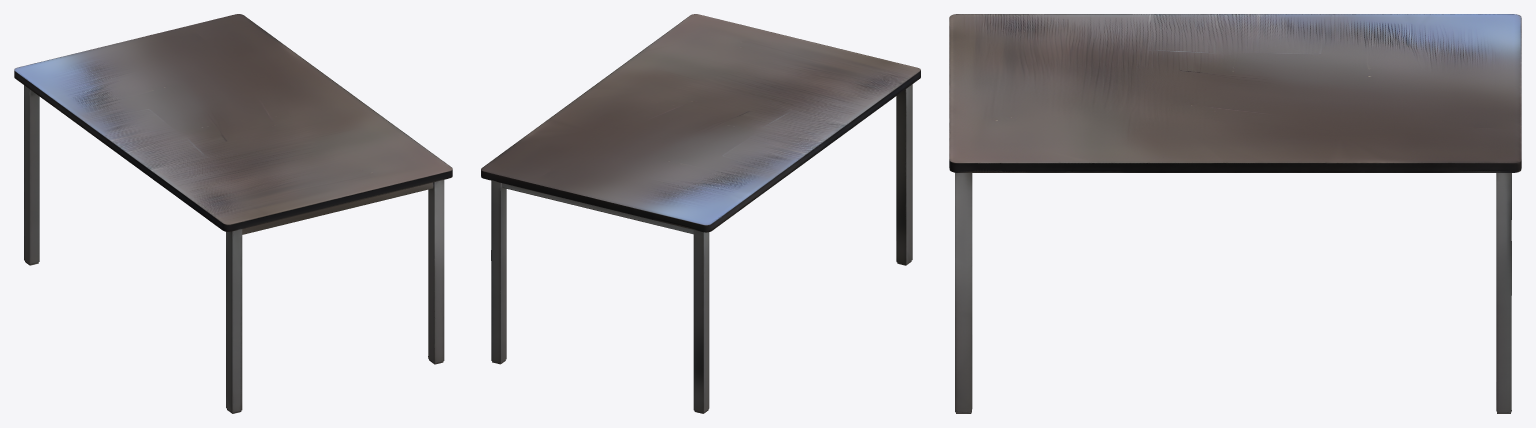
File: base_basic_table.glb
3 renders of one model, left to right at view 1: azimuth 30°, elevation 25°; view 2: azimuth 150°, elevation 25°; view 3: azimuth 270°, elevation 25°, orthographic. The views are drawn at different scales.
Visible parts, largest first — view 1: model; view 2: model; view 3: model.
Boxes of the visible parts, x1,y1,x2,y2 form: model: (14,14,452,413); model: (481,14,920,413); model: (949,14,1521,413).
Size of the model in its own units: 1.12 by 0.9016 by 1.82.
Materials: 2 (2 with a texture image).
